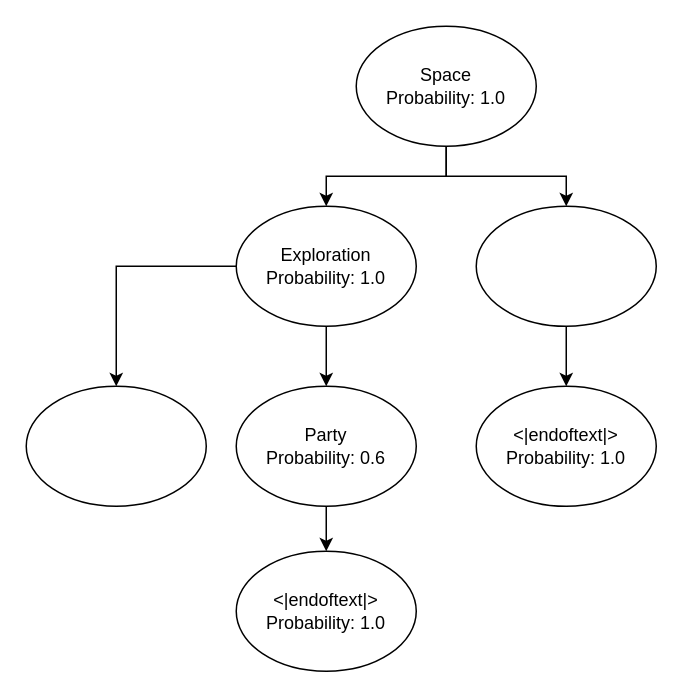
This 683x698 diagram has some shape labels left out. The shapes that lost their labels are listed below. From the top down, each one's centre as x and y in pixels, then its label:
[565,265]: Party Probability: 0.0
[115,445]: <|endoftext|> Probability: 0.4
